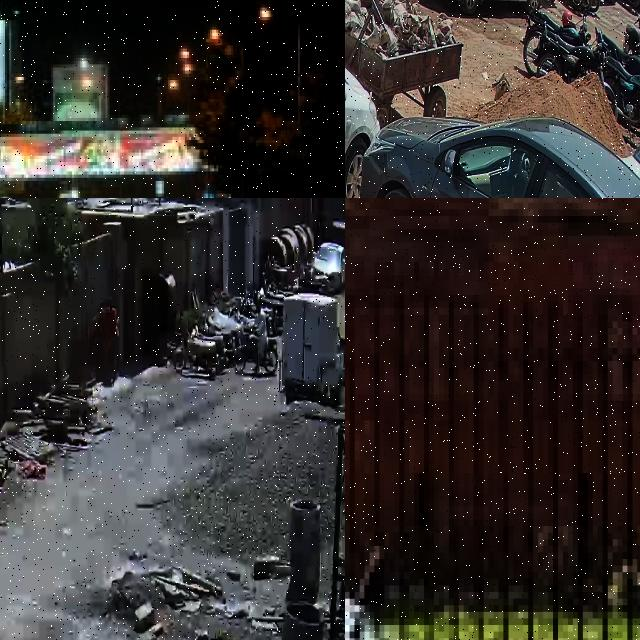bike: (345, 546, 588, 640), (522, 4, 588, 76), (534, 21, 606, 83), (604, 50, 640, 125), (599, 27, 640, 76), (175, 334, 218, 378), (235, 337, 278, 375), (623, 15, 640, 55)
car: (356, 117, 640, 198), (313, 241, 345, 291)
